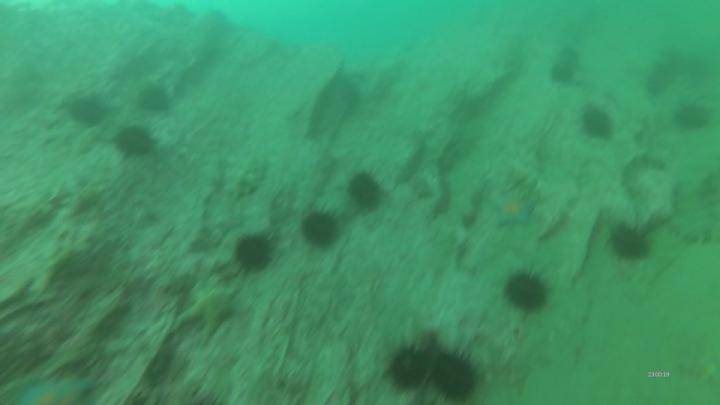echinus: (434, 356, 476, 398), (510, 274, 548, 313), (112, 126, 154, 159), (391, 349, 427, 387), (304, 213, 340, 249), (239, 235, 272, 271), (346, 175, 380, 206), (609, 228, 641, 260), (70, 98, 104, 127), (583, 108, 615, 136), (677, 104, 707, 132), (554, 47, 577, 83), (140, 85, 168, 114)
holothurian: (669, 215, 713, 250)
starfish: (184, 289, 247, 338), (21, 380, 91, 405), (497, 192, 532, 228)
